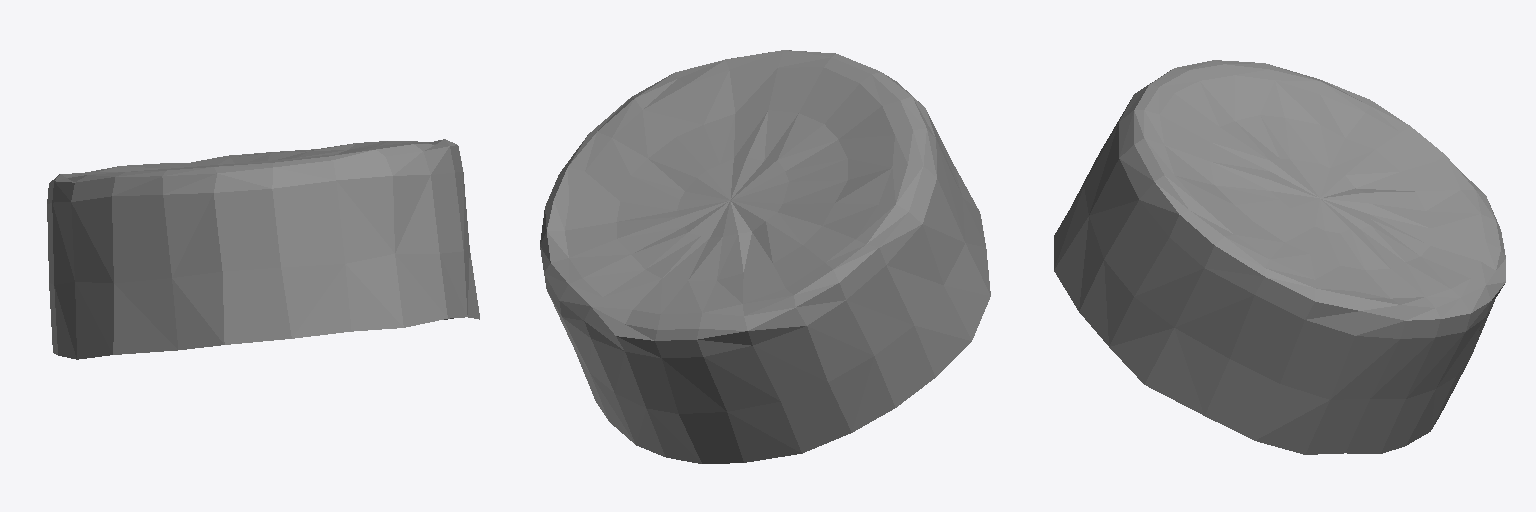
Rendered from left_home_button.obj.
3 renders of one model, left to right at view 1: azimuth 30°, elevation 25°; view 2: azimuth 150°, elevation 25°; view 3: azimuth 270°, elevation 25°, orthographic.
Visible parts, largest first — view 1: left_home_button Mesh; view 2: left_home_button Mesh; view 3: left_home_button Mesh.
Part boxes in pixels (left/top/right/bottom): left_home_button Mesh: left=47, top=139, right=479, bottom=359; left_home_button Mesh: left=540, top=50, right=990, bottom=463; left_home_button Mesh: left=1054, top=60, right=1505, bottom=454.
Bounding box in the file's own units: 0.0088 × 0.0065 × 0.009.